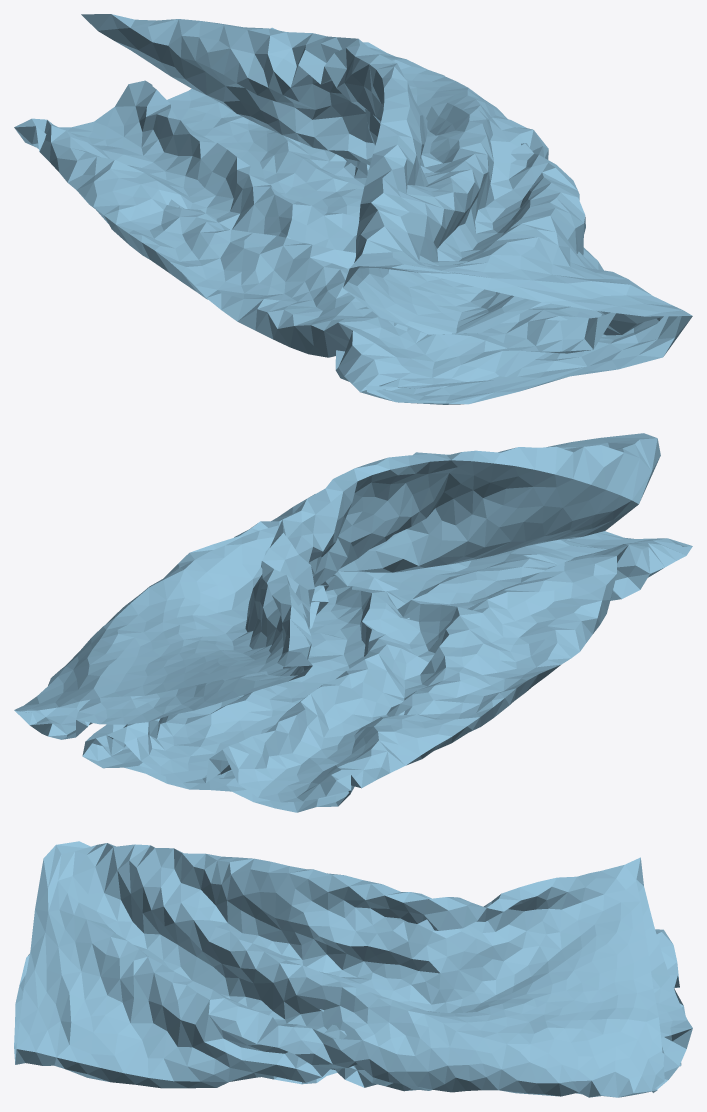
Rendered from frame_18.glb.
3 views of the same model, one above another, from view 1: azimuth 30°, elevation 25°; view 2: azimuth 150°, elevation 25°; view 3: azimuth 270°, elevation 25° (orthographic). The views are drawn at different scales.
Parts seen in each view (by area): view 1: frame_18.obj; view 2: frame_18.obj; view 3: frame_18.obj.
Part boxes in pixels (left/top/right/bottom): frame_18.obj: left=14, top=14, right=692, bottom=404; frame_18.obj: left=14, top=433, right=692, bottom=812; frame_18.obj: left=14, top=841, right=692, bottom=1097.
Size of the model in its own units: 0.8468 by 0.4069 by 1.5.
